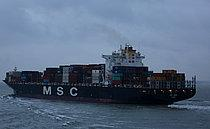Ship: (4, 39, 201, 111)
